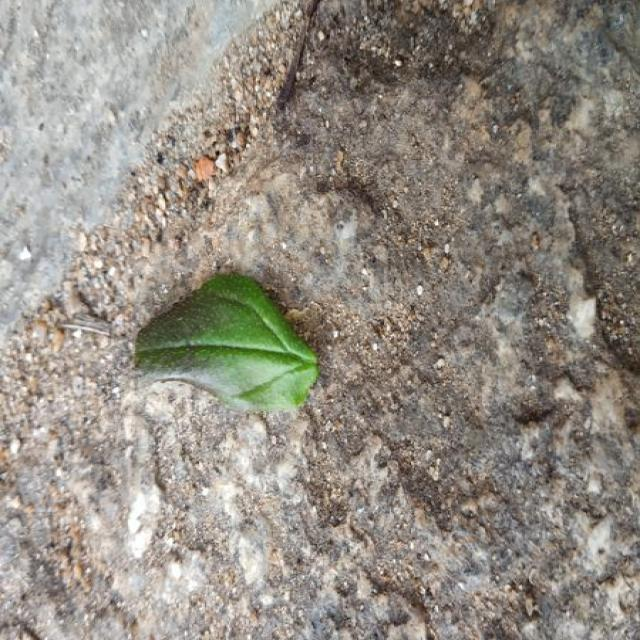Astma_weed: (137, 275, 318, 409)
